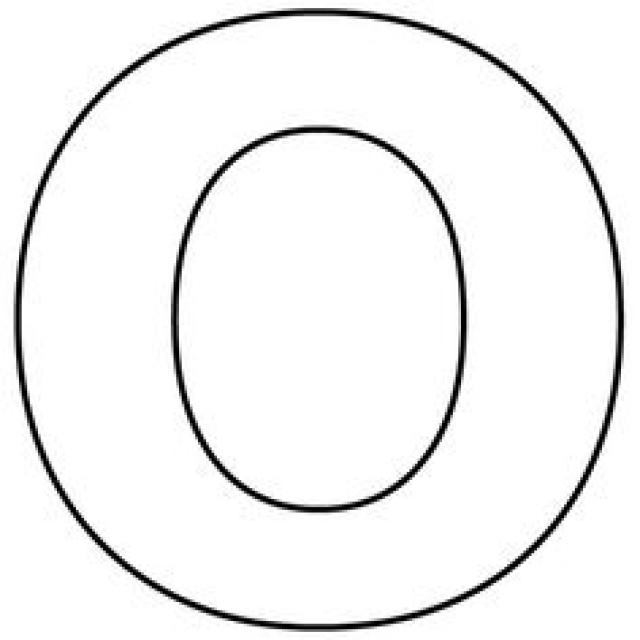O: (18, 6, 640, 638)
